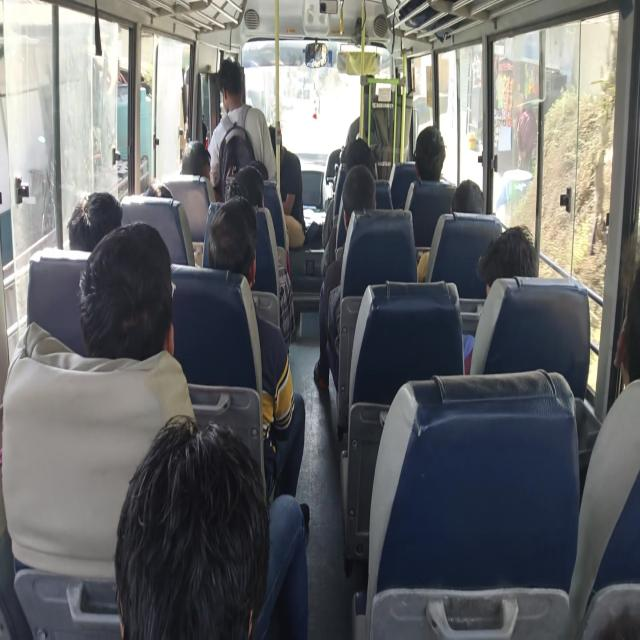person: (138, 409, 325, 640), (76, 215, 189, 388), (34, 183, 126, 281), (348, 129, 402, 217), (209, 196, 263, 273), (212, 60, 260, 130), (488, 210, 528, 289), (346, 165, 391, 218), (457, 172, 496, 233), (132, 174, 182, 220), (231, 168, 269, 220), (416, 124, 452, 178), (177, 140, 213, 193), (241, 148, 266, 176)
